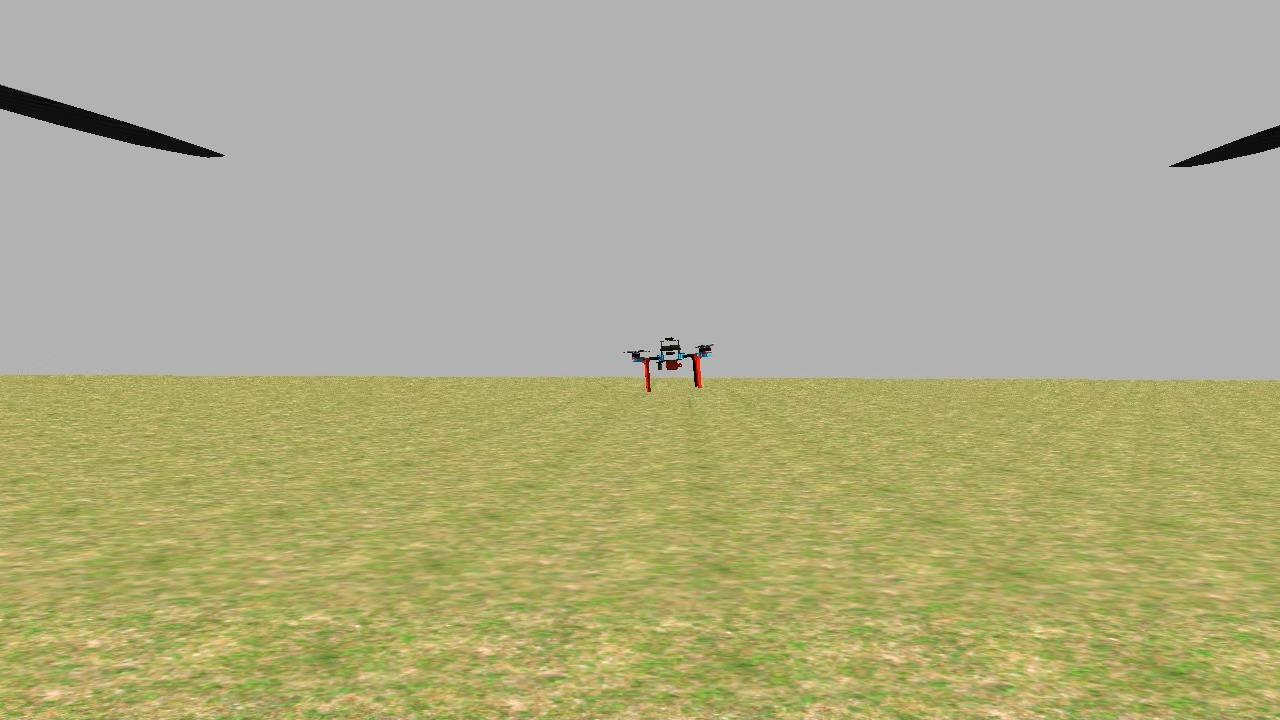UAV: (612, 331, 732, 392)
